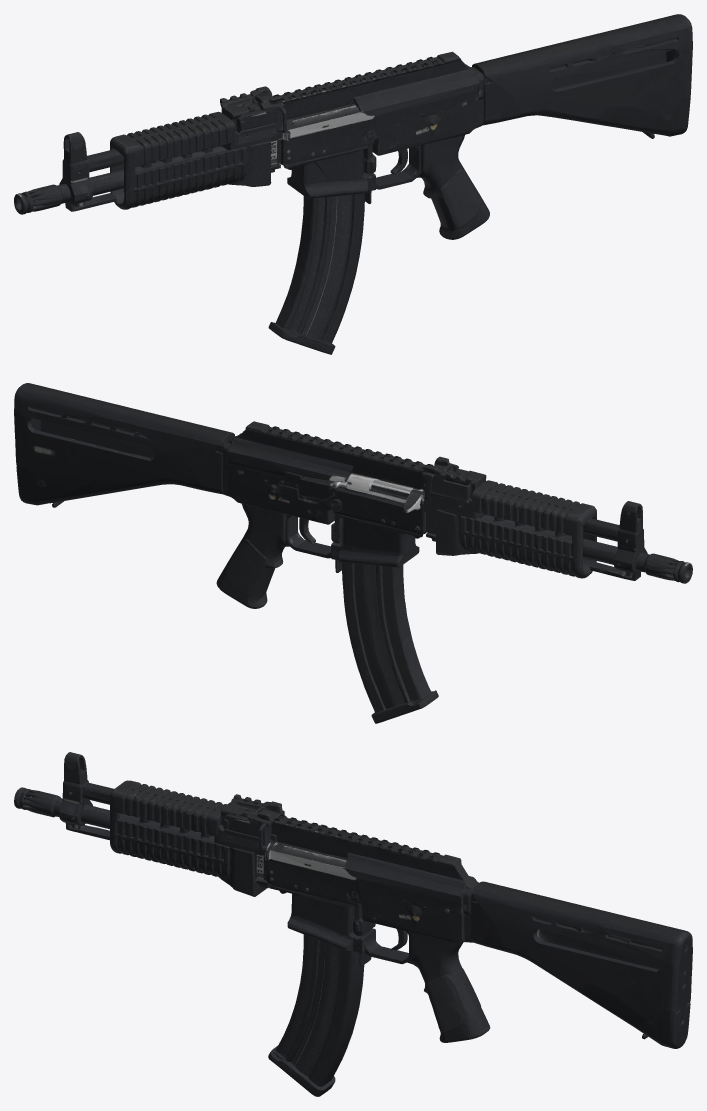
3 renders of one model, top to bottom at view 1: azimuth 30°, elevation 25°; view 2: azimuth 150°, elevation 25°; view 3: azimuth 330°, elevation 25°, orthographic.
Size of the model in its own units: 1.9 by 0.7543 by 0.1535.
1 material, 1 textured.
